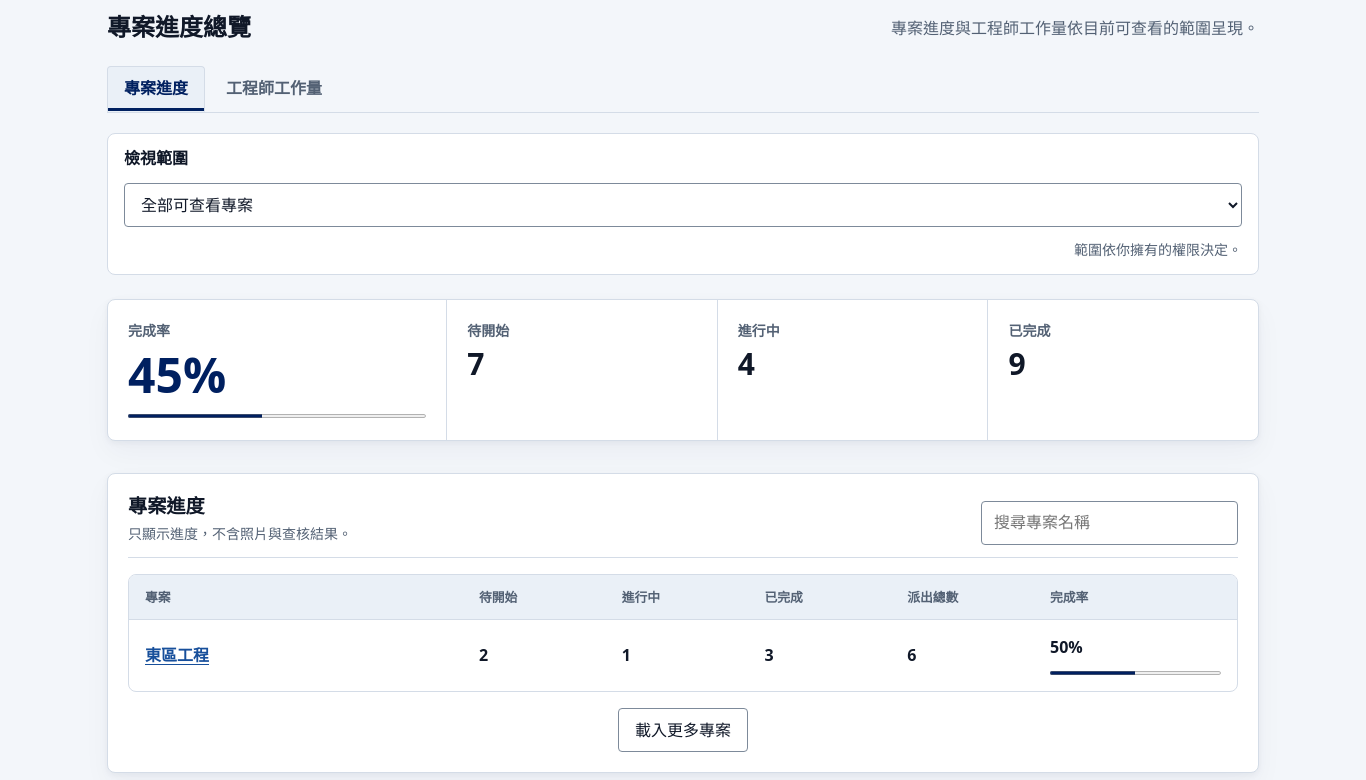
Scenario: Dashboard 頁面 › 專案搜尋在 debounce 期間隱藏舊列與舊分頁
Check: the button "載入更多專案" is shown, box left=618, top=708, right=748, bottom=752
Type "西側" into the search field labelled "搜尋專案". click: {"x": 1110, "y": 523}
box: left=981, top=501, right=1238, bottom=545
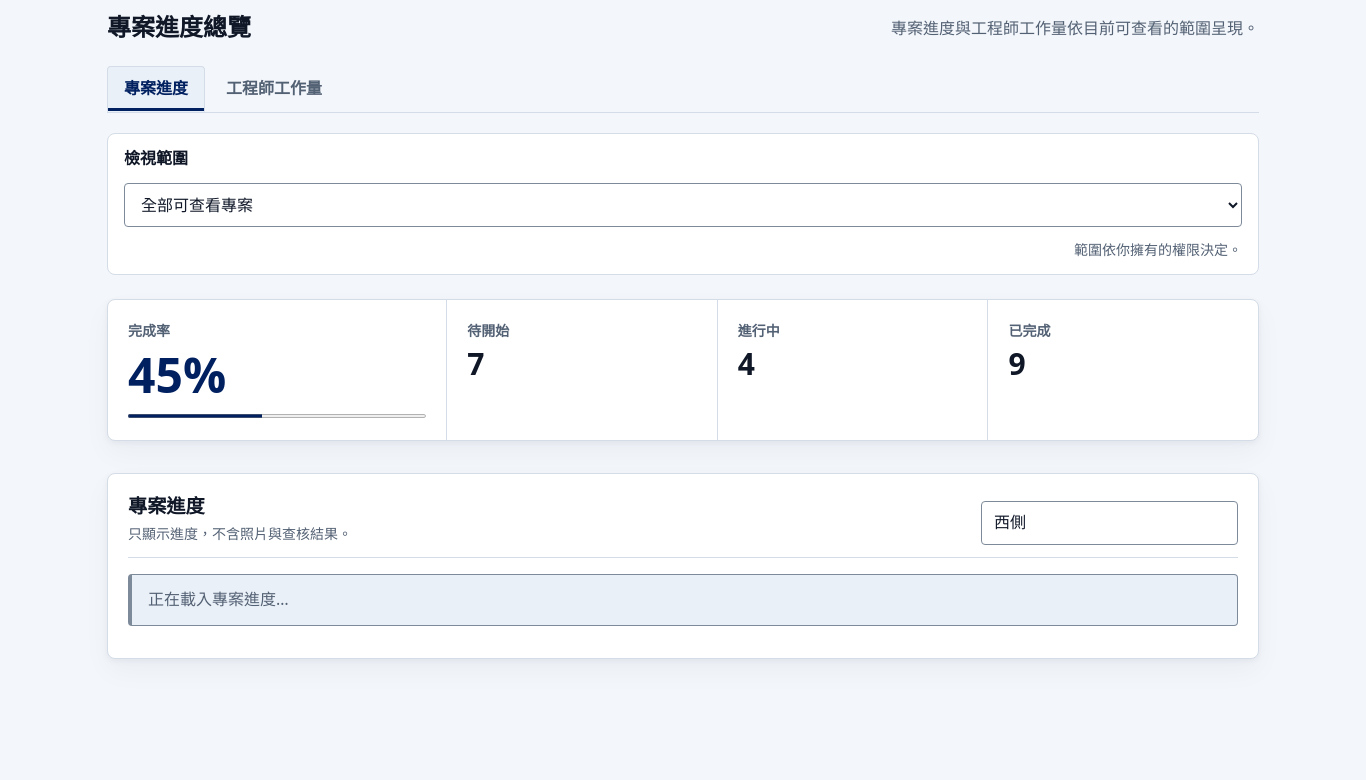
Check: the button "東區工程" is gone
Check: the button "載入更多專案" is gone
Check: the message shows "正在載入專案進度", box left=148, top=588, right=289, bottom=610
